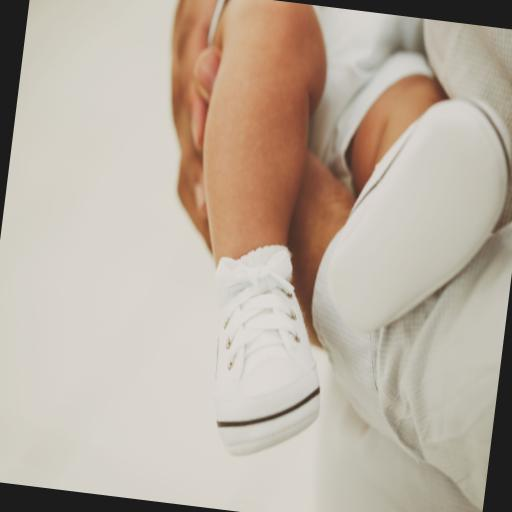shoe: (328, 100, 509, 331), (214, 246, 318, 455)
